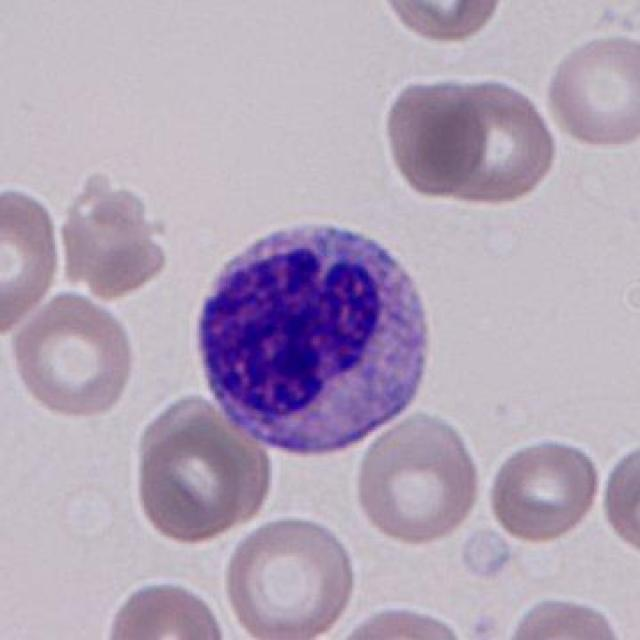RBC: (322, 0, 622, 89), (350, 406, 486, 550), (4, 288, 142, 423), (220, 515, 359, 640), (52, 160, 174, 302), (438, 71, 558, 210), (377, 71, 487, 203), (133, 425, 249, 546), (483, 434, 602, 546), (538, 30, 640, 152), (2, 180, 62, 340), (100, 574, 228, 640), (373, 0, 512, 46), (499, 594, 633, 640), (327, 601, 477, 640), (599, 439, 640, 560)
